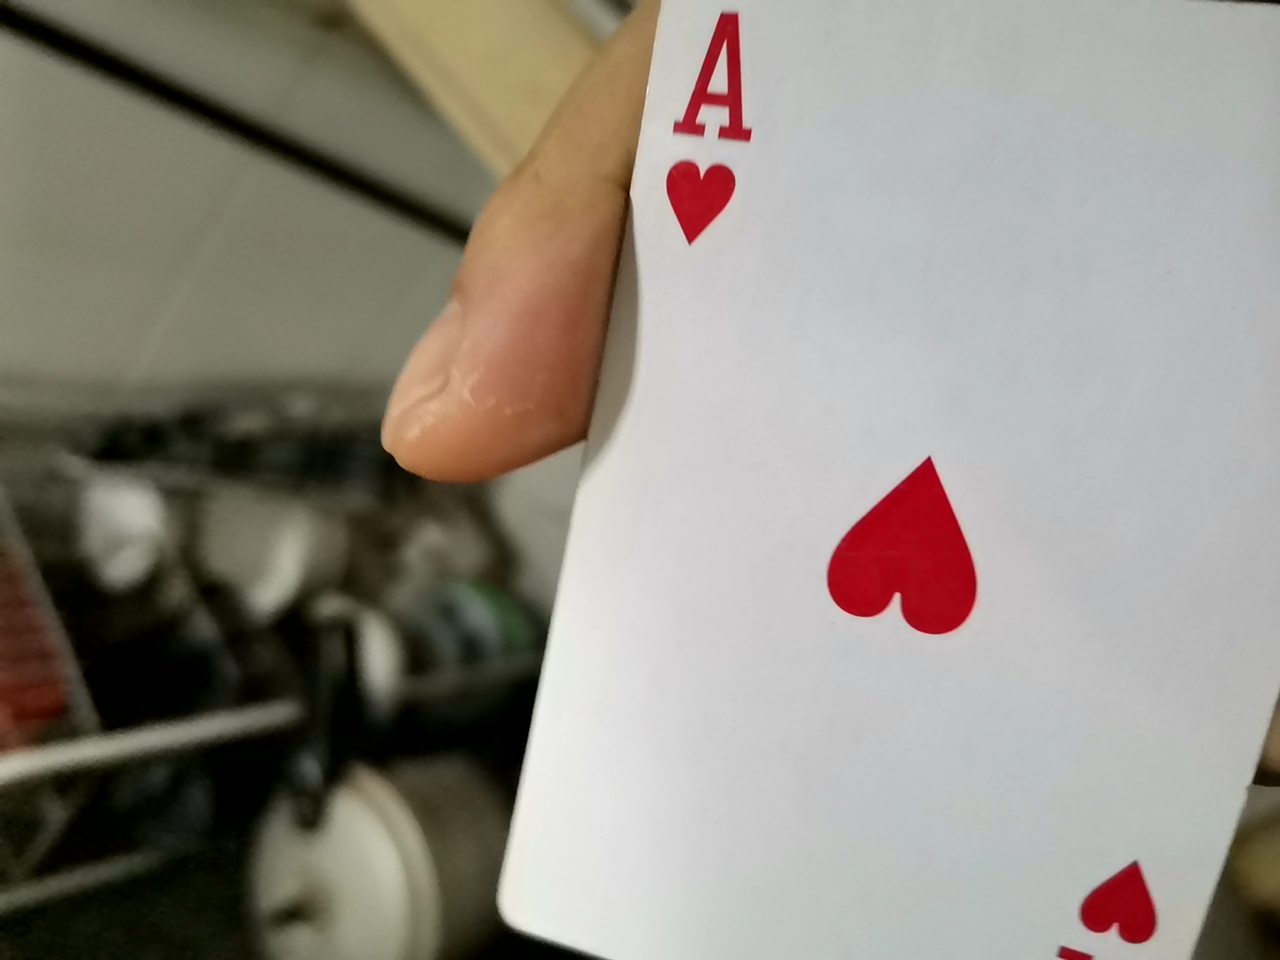hx a: (557, 15, 1272, 960)
